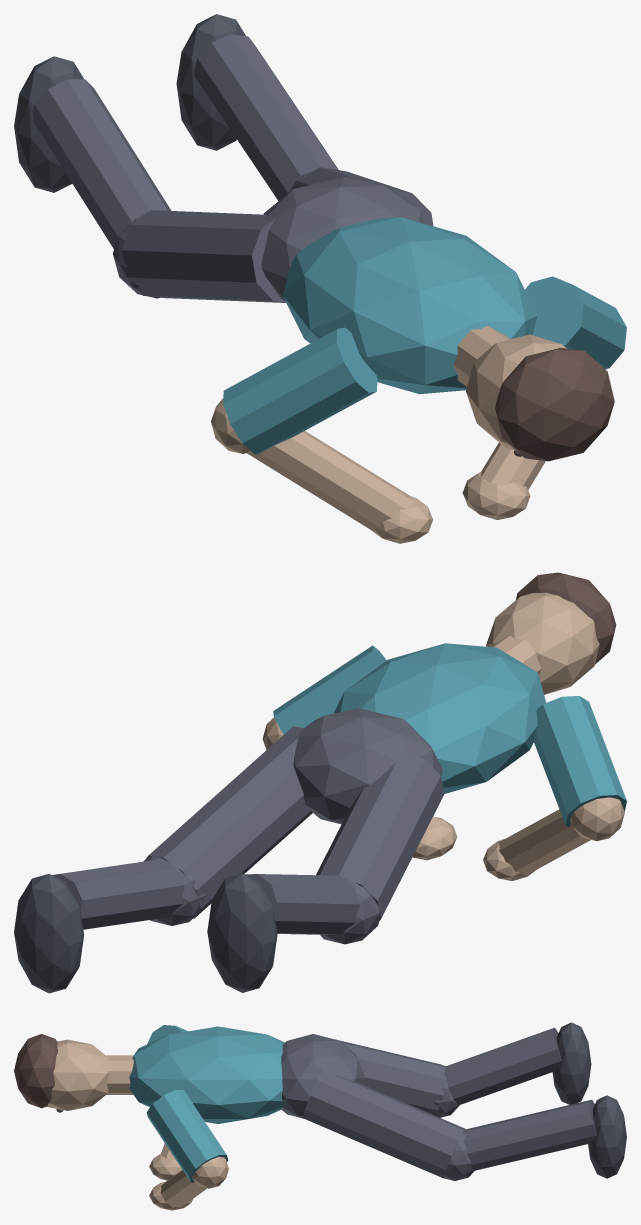
The picture shows the model from 3 angles, top to bottom: view 1: azimuth 30°, elevation 25°; view 2: azimuth 150°, elevation 25°; view 3: azimuth 270°, elevation 25°; orthographic projection. The views are drawn at different scales.
Visible parts, largest first — view 1: world; view 2: world; view 3: world.
Boxes of the visible parts, <box> form: world: <box>14,14,626,543</box>; world: <box>14,572,626,993</box>; world: <box>14,1022,626,1210</box>.
Size of the model in its own units: 0.93 by 0.565 by 2.
